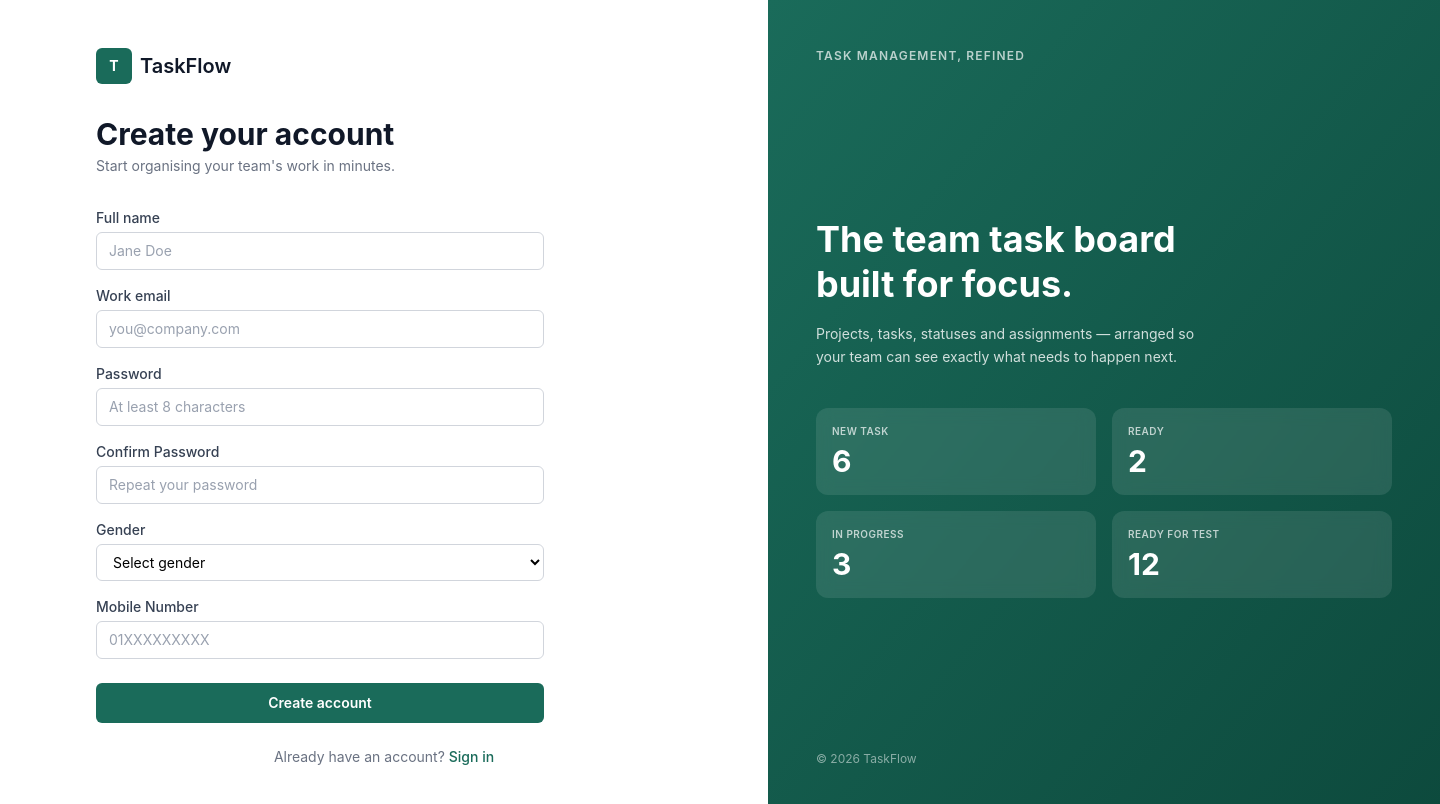
it: SignupPage Integration Tests › shows validation errors for empty submission
The width and height of the screenshot is (1440, 804).
Click the button "Create account". click: (320, 703)
box: top-left (96, 683), bottom-right (544, 723)
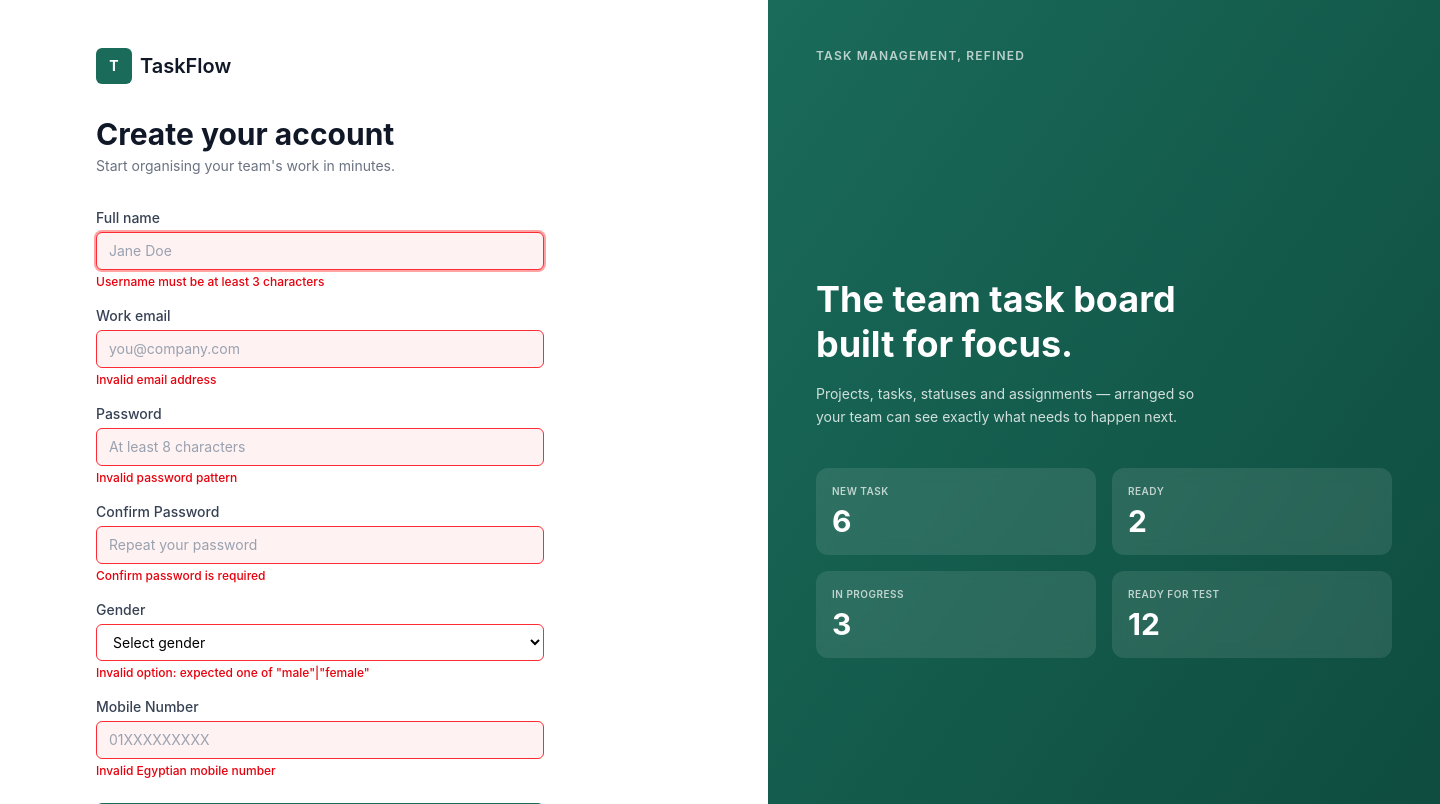
Expected: the text "Username must be at least 3 characters" is shown, top-left (96, 274), bottom-right (324, 289)
Expected: the text "Invalid email address" is shown, top-left (96, 372), bottom-right (216, 387)
Expected: the text "Invalid password pattern" is shown, top-left (96, 470), bottom-right (237, 485)
